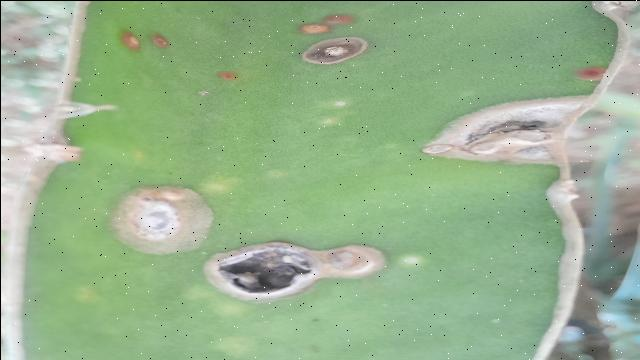stemcanker: (117, 26, 146, 56), (571, 63, 609, 83), (146, 29, 172, 56), (296, 19, 334, 37), (322, 12, 360, 28), (216, 65, 240, 86)
